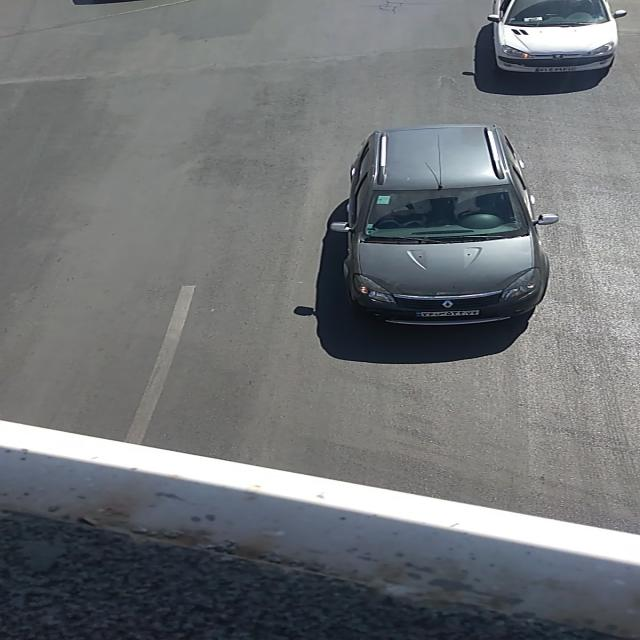car: (324, 128, 562, 328), (482, 1, 628, 73)
